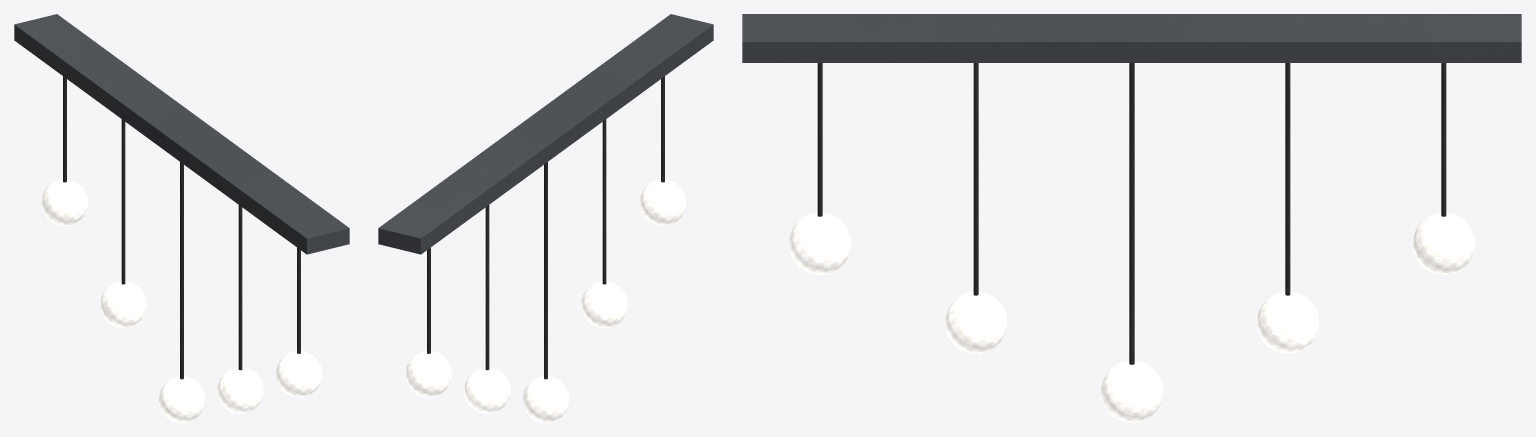
The model's file is ceilinglamp1.glb.
The picture shows the model from 3 angles, left to right: view 1: azimuth 30°, elevation 25°; view 2: azimuth 150°, elevation 25°; view 3: azimuth 270°, elevation 25°; orthographic projection. The views are drawn at different scales.
Parts seen in each view (by area): view 1: CeilingLamp01_0; view 2: CeilingLamp01_0; view 3: CeilingLamp01_0.
Part boxes in pixels (<box>): CeilingLamp01_0: <box>14,14,349,422</box>; CeilingLamp01_0: <box>378,14,713,422</box>; CeilingLamp01_0: <box>742,14,1521,422</box>.
Size of the model in its own units: 0.1256 by 0.8242 by 1.49.
1 material, 1 textured.
